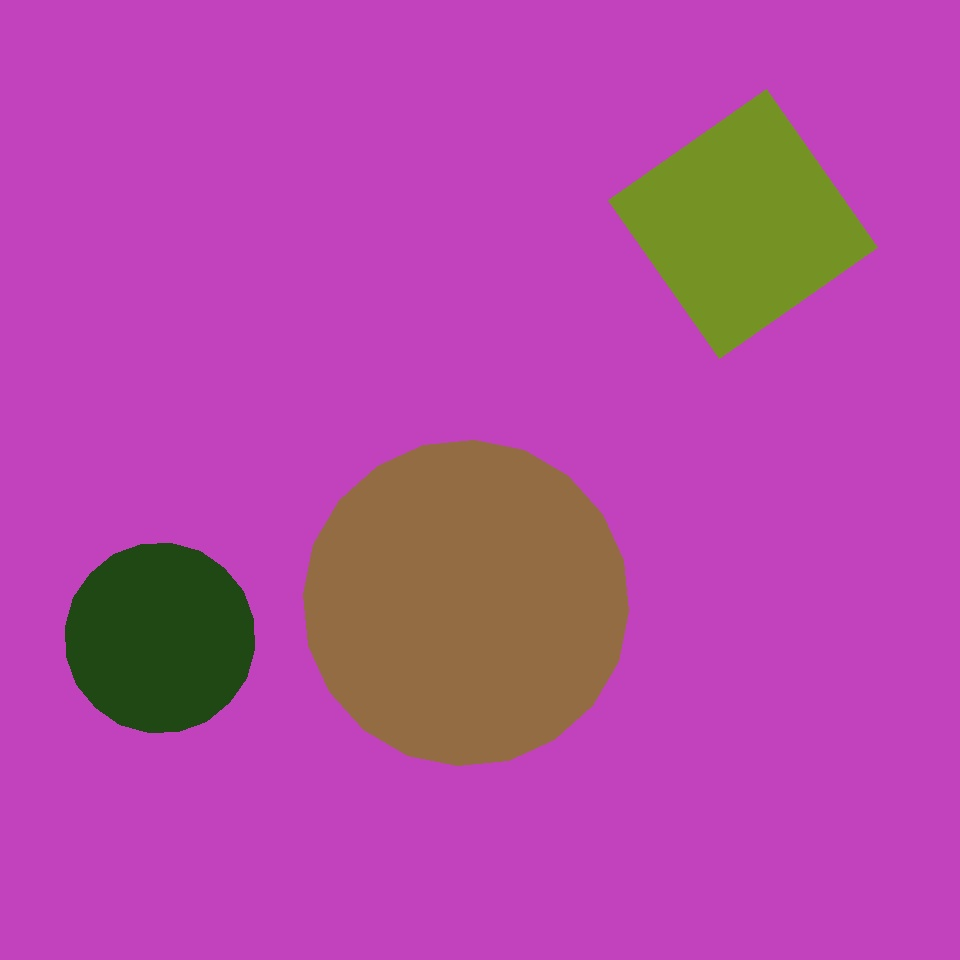circle: (147, 674, 329, 835)
square: (370, 176, 640, 446), (608, 90, 878, 358)
triangle: (304, 440, 628, 766), (364, 174, 681, 491), (66, 544, 254, 732)
